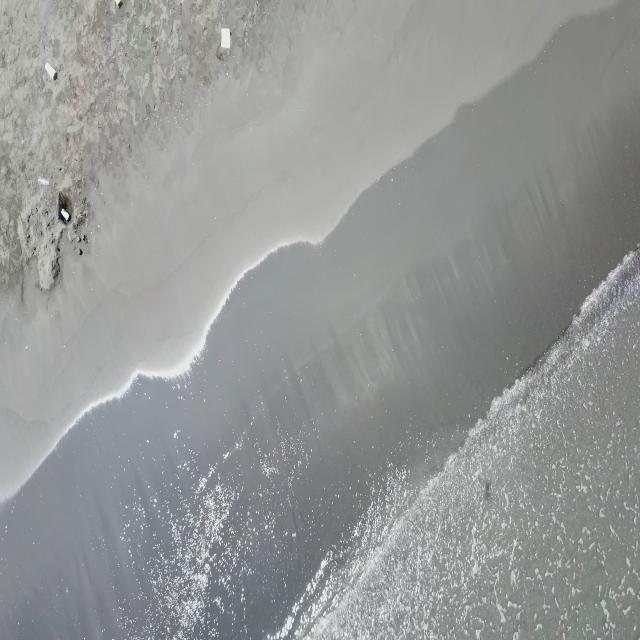take-away-containers: (221, 27, 231, 50)
takeaway-cup: (44, 61, 56, 79), (38, 175, 50, 187), (61, 208, 70, 222)
